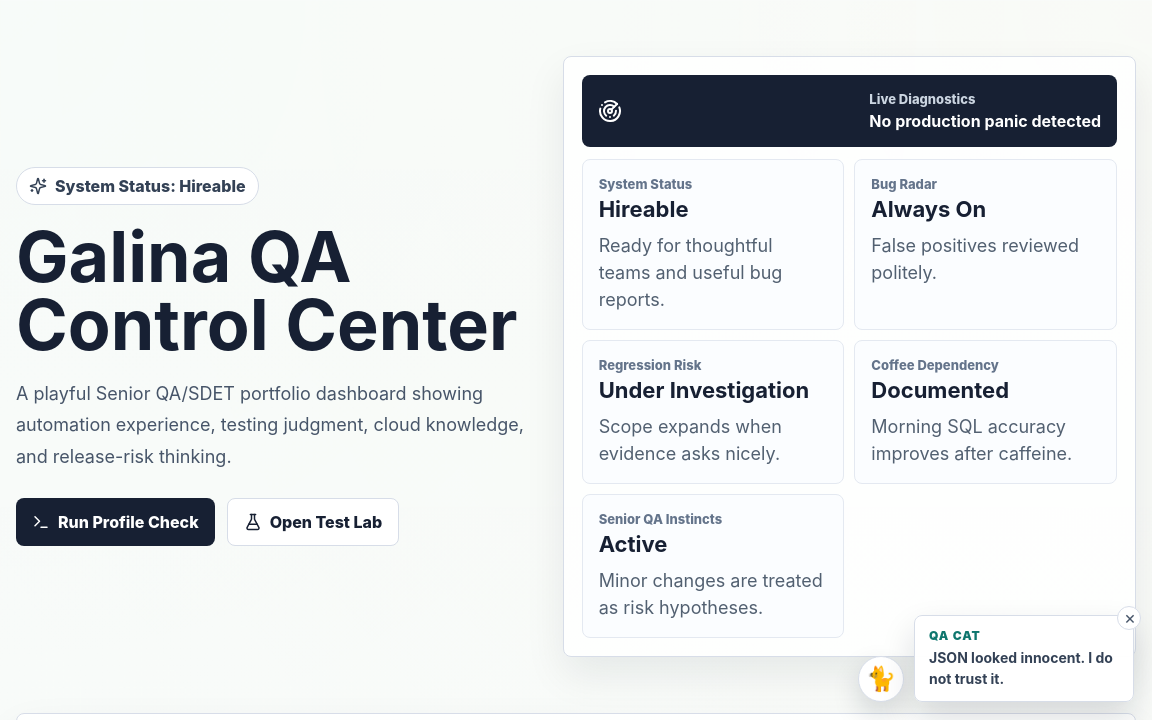
Test: Galina QA Control Center UI › includes the updated QA Cat locally message
Click the button named "Next QA Cat message": coordinates (881, 679) [858, 656, 904, 702]
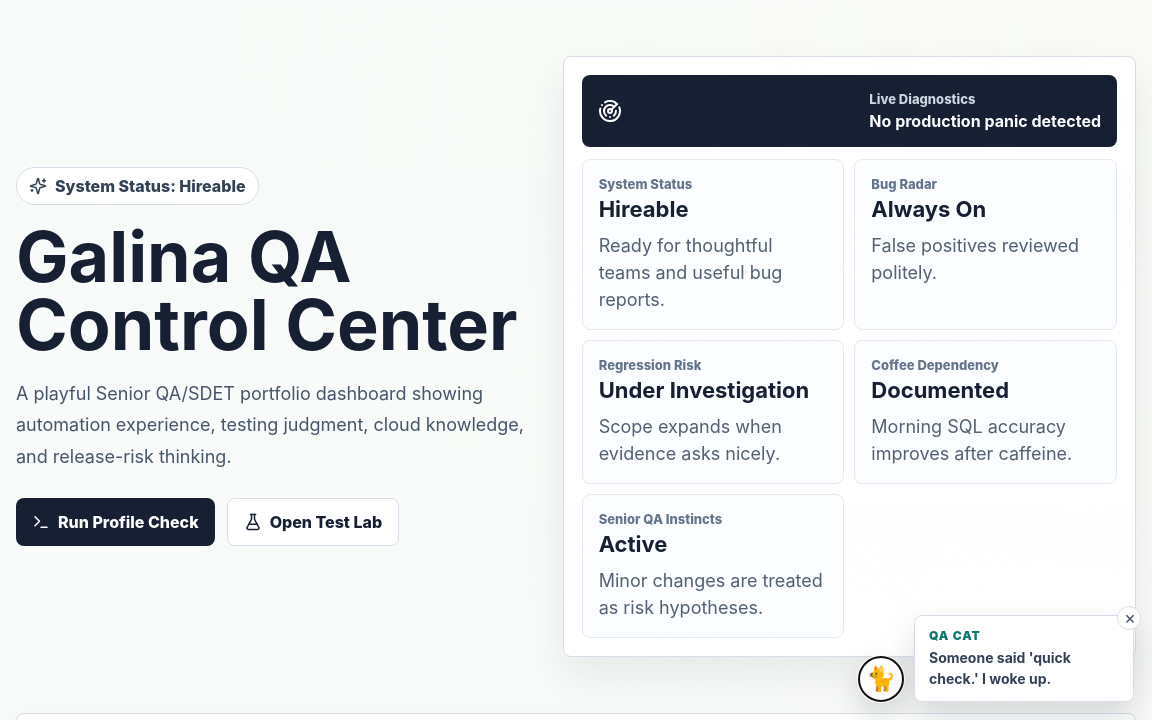
Click the button named "Next QA Cat message": coordinates (881, 679) [858, 656, 904, 702]
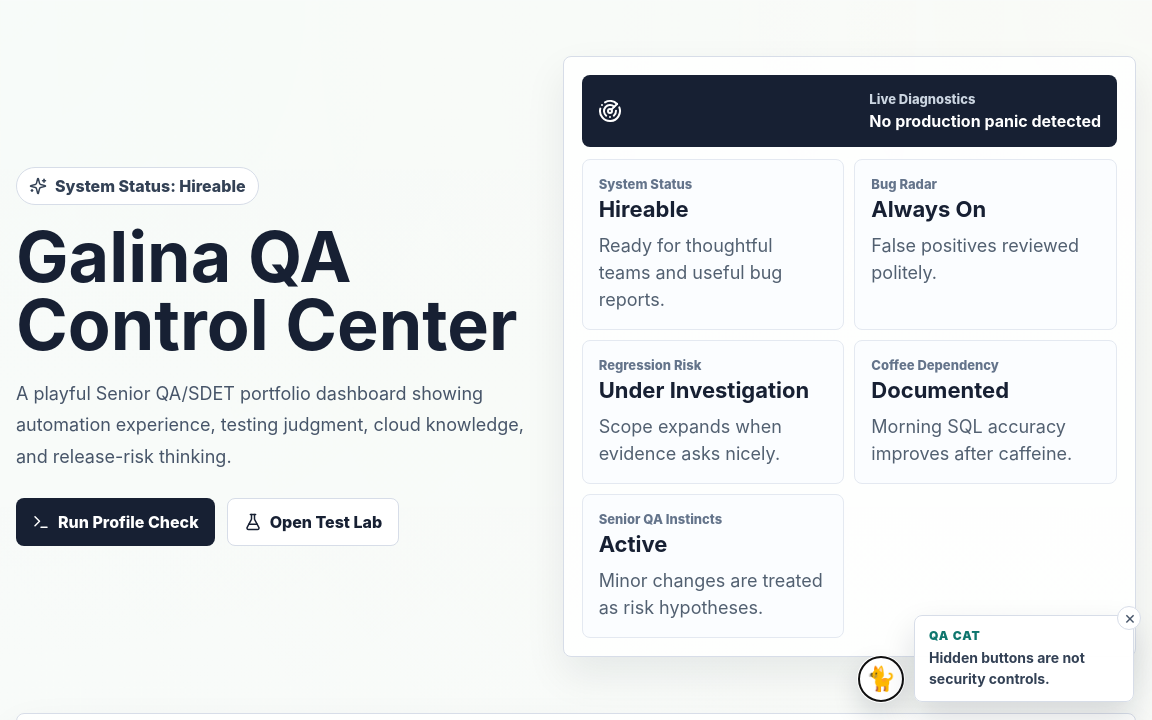
Click the button named "Next QA Cat message": coordinates (881, 679) [858, 656, 904, 702]
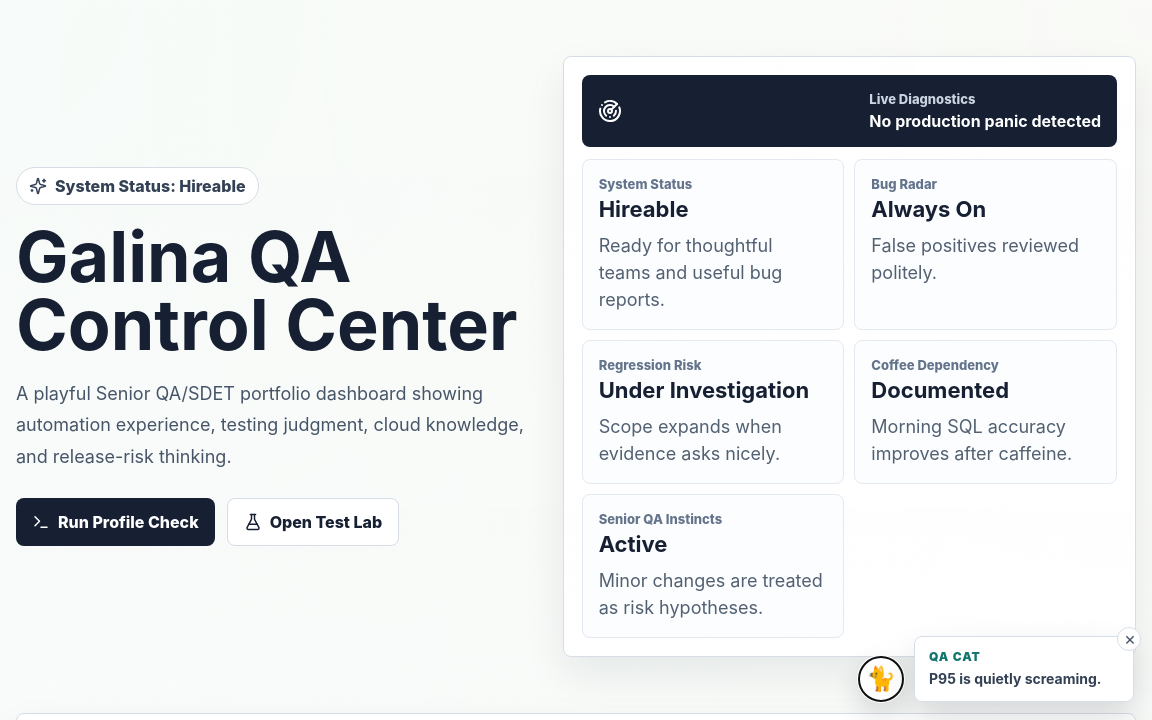
Click the button named "Next QA Cat message": coordinates (881, 679) [858, 656, 904, 702]
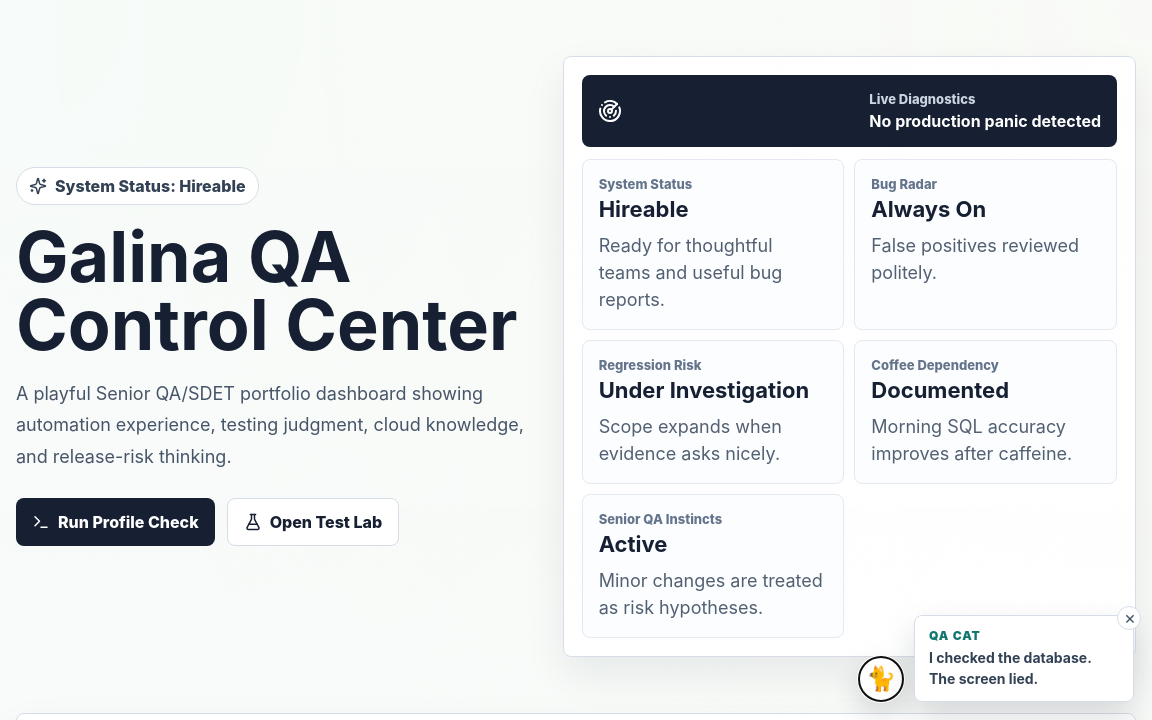
Click the button named "Next QA Cat message": coordinates (881, 679) [858, 656, 904, 702]
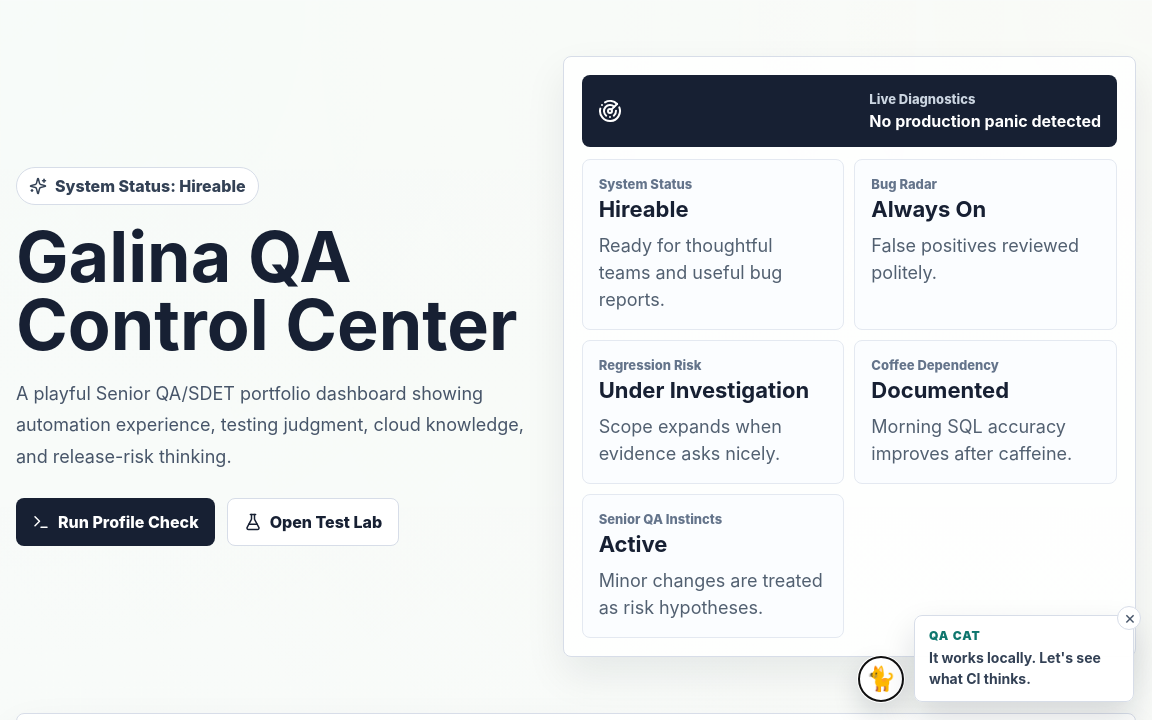
Check: the element named "QA Cat widget" shows "Let's see what CI thinks", box [929, 649, 1101, 687]
